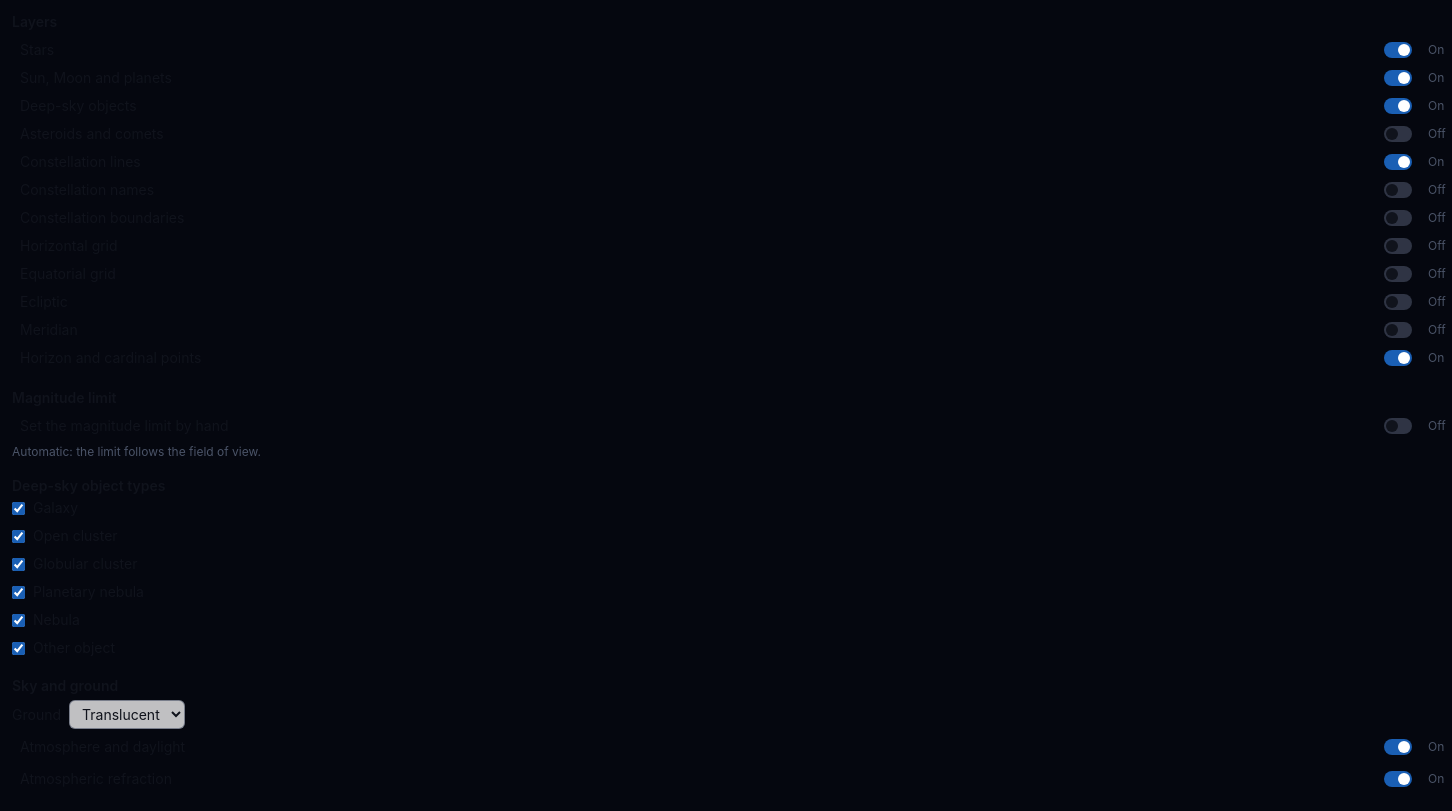
LayersPanel › sets the ground, the atmosphere and the refraction, disabled off Earth with a reason
The width and height of the screenshot is (1452, 811).
Select "Hidden" in the dropdown labelled "Ground": (127, 714) x1=69 y1=700 x2=185 y2=729
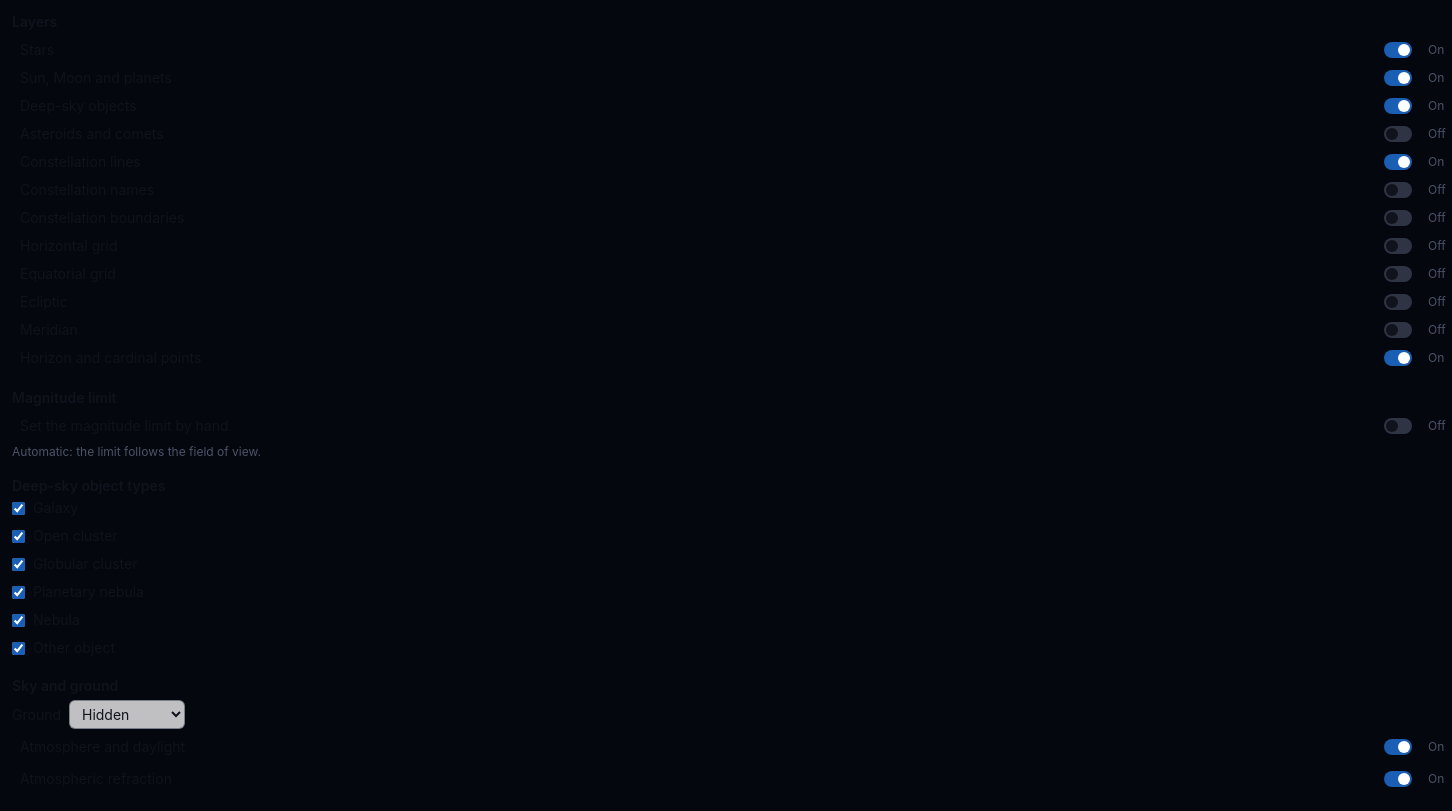
Click the switch labelled "Atmosphere and daylight": (103, 746) x1=12 y1=733 x2=1420 y2=761
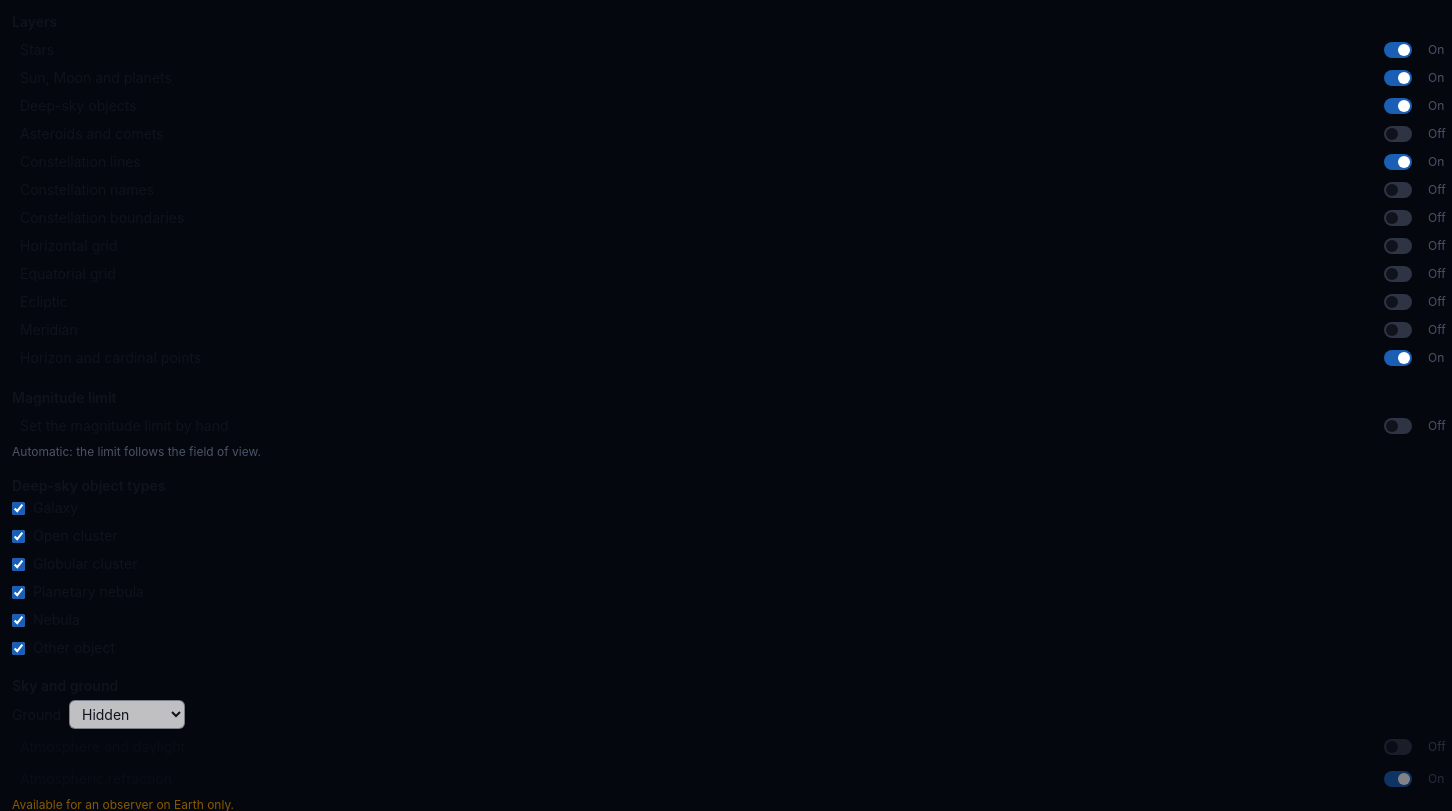
Check: the switch labelled "Atmosphere and daylight" is disabled, box x1=12 y1=733 x2=1420 y2=761
Check: the switch labelled "Atmospheric refraction" is disabled, box x1=12 y1=765 x2=1420 y2=793
